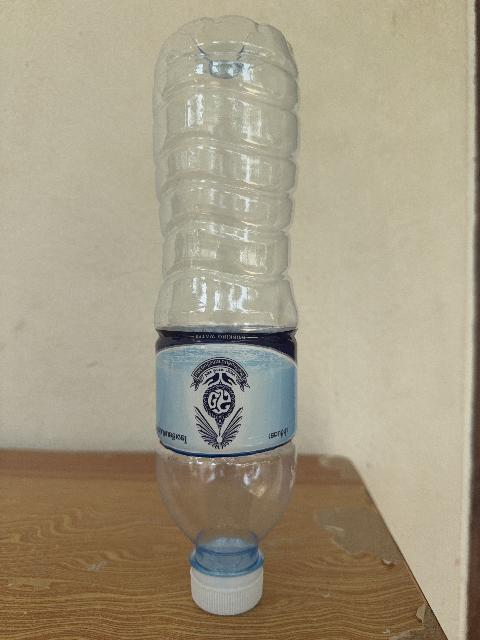bottle: (154, 16, 298, 614)
